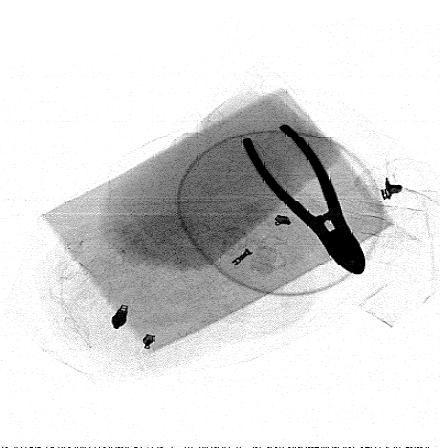Pliers: (238, 122, 368, 275)
